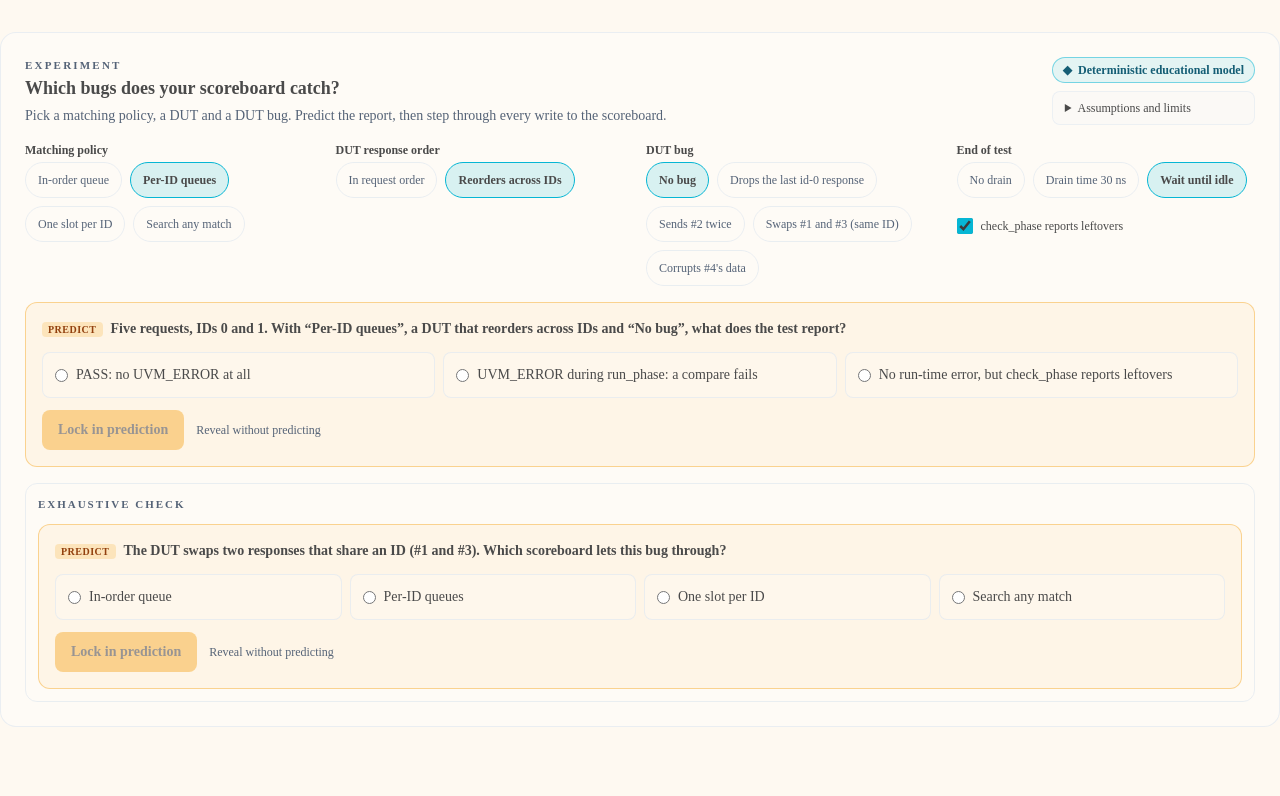
it: ScoreboardMatchingVisualizer › steps through scoreboard writes with synchronized narration
Click the radio button labelled "PASS: no UVM_ERROR at all" at (62,375), box [55,368,68,382]
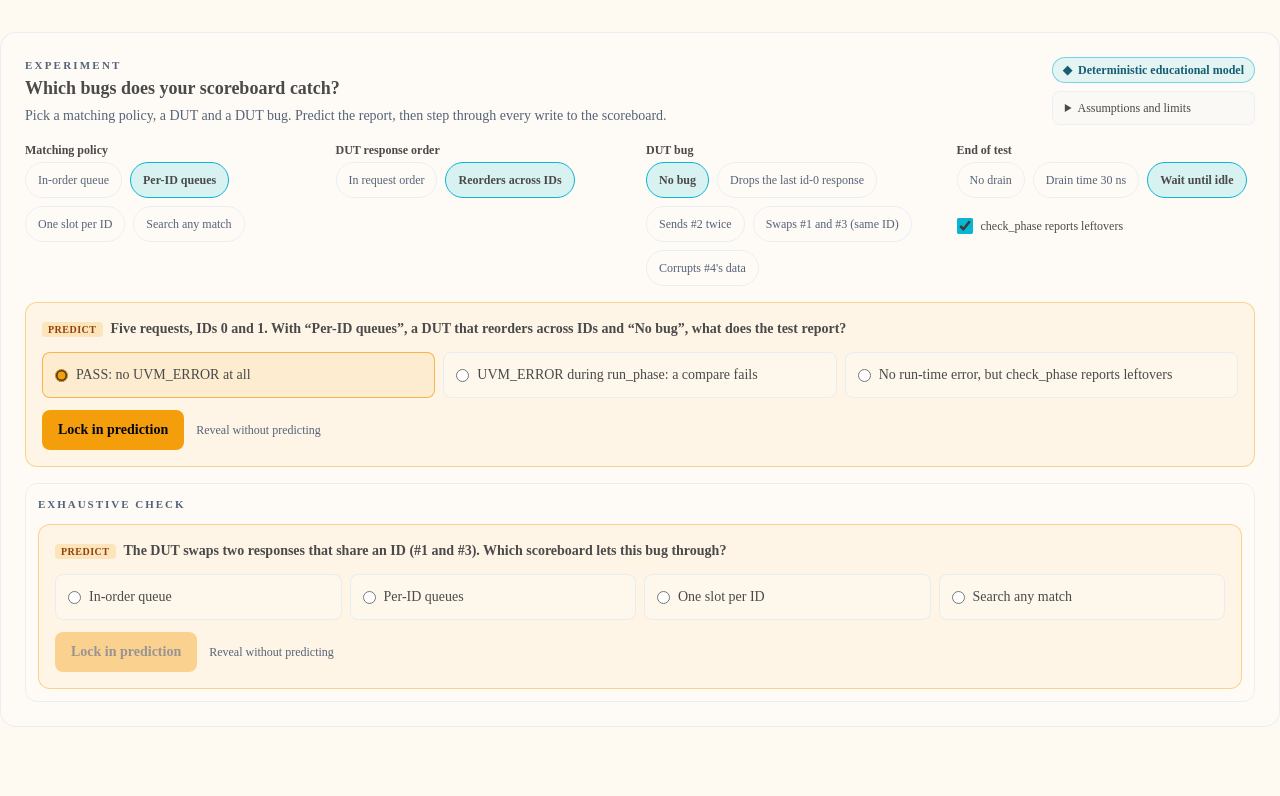
Click the button "Lock in prediction" below "PASS: no UVM_ERROR at all" at (113,430), box [42,410,184,450]
(page scrolled)
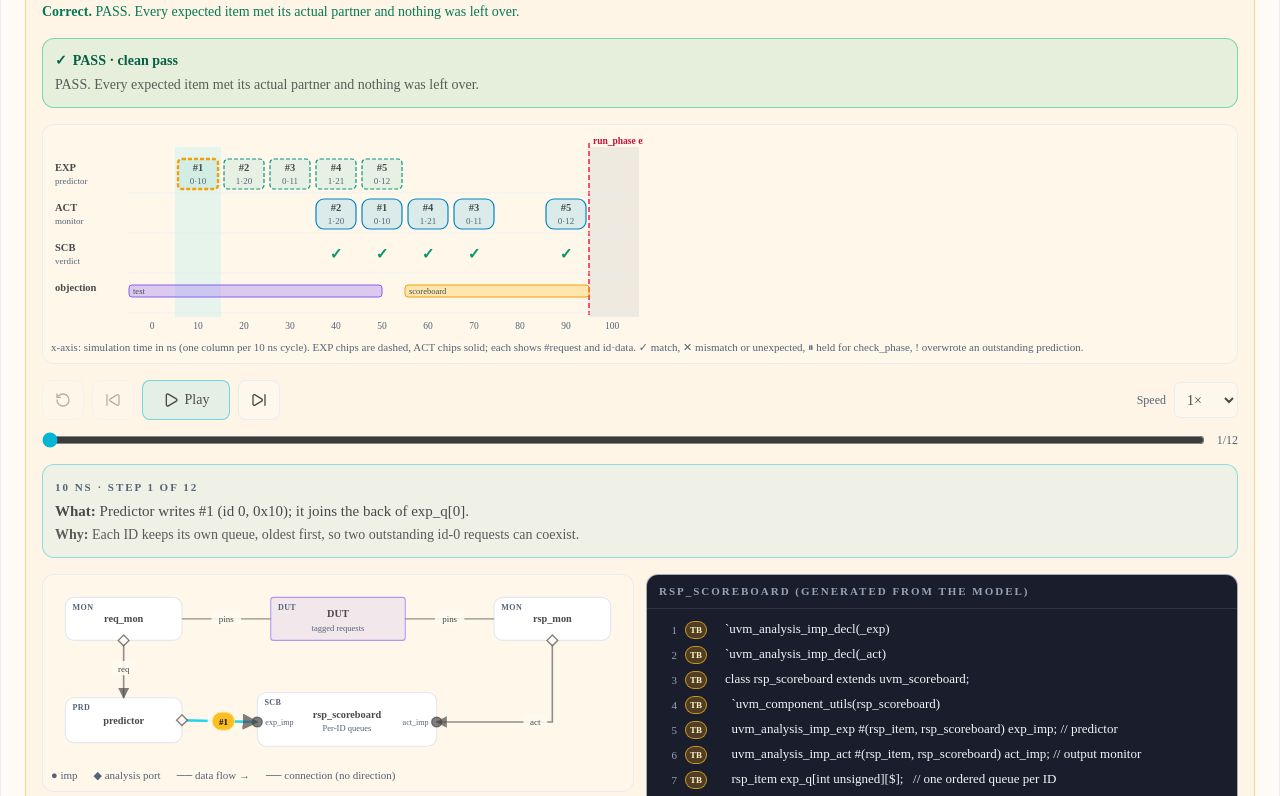
Press ArrowRight in the button named "next scoreboard step", box [238,380,280,420]
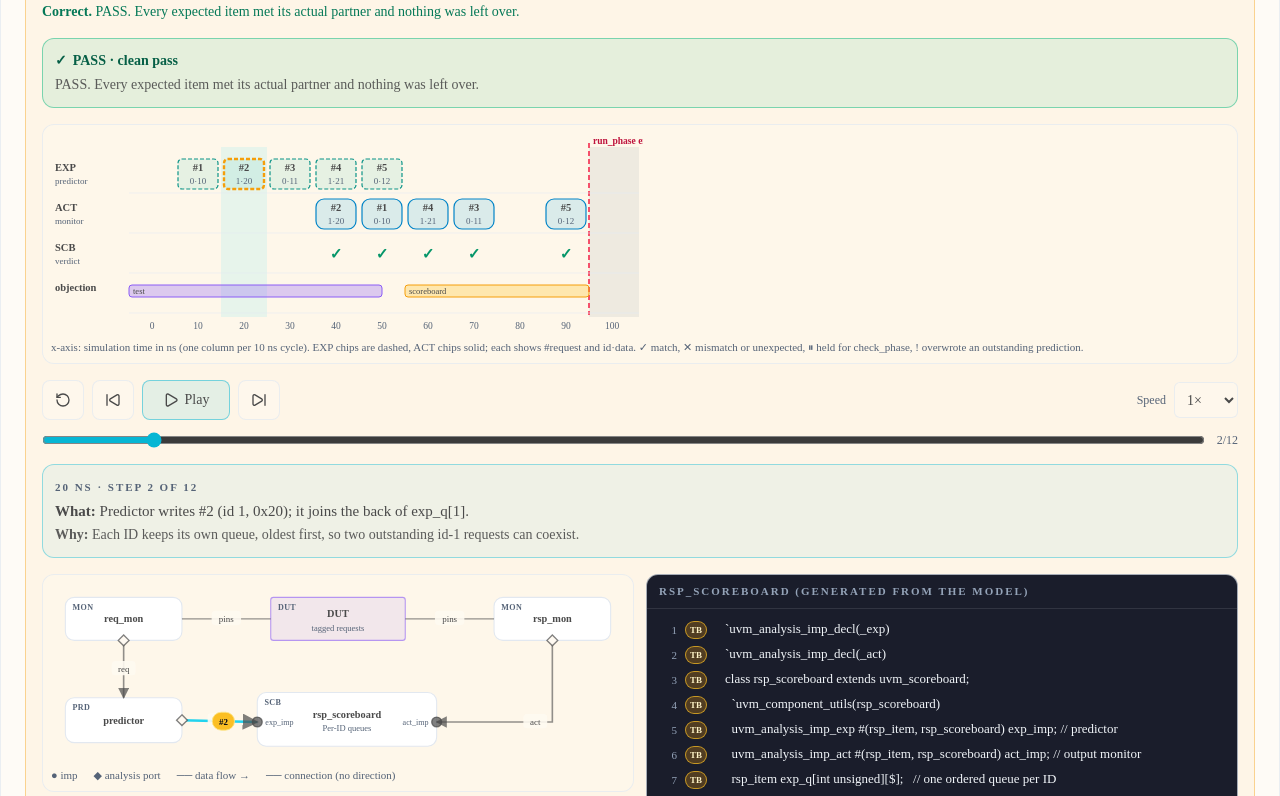
Result: the text "joins the back of exp_q[1]" is shown at [100,503,469,519]
